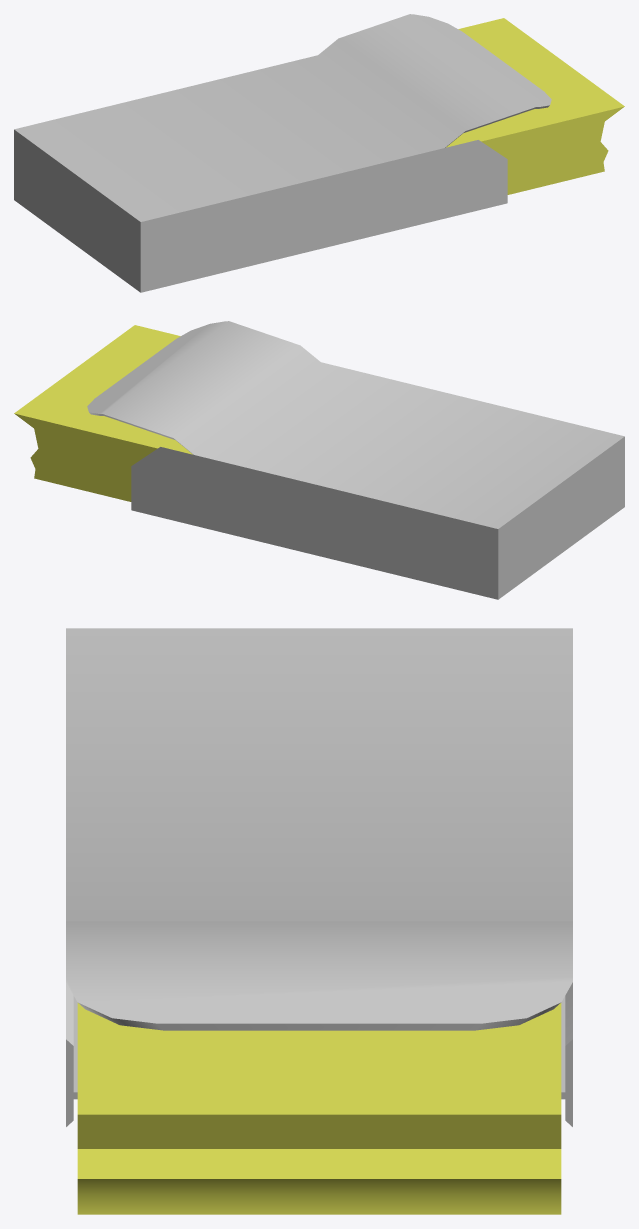
File: Mesh_PokerDeckBoxed.fbx
The picture shows the model from 3 angles, top to bottom: view 1: azimuth 30°, elevation 25°; view 2: azimuth 150°, elevation 25°; view 3: azimuth 270°, elevation 25°; orthographic projection. The views are drawn at different scales.
Parts seen in each view (by area): view 1: Deck_Boxed; view 2: Deck_Boxed; view 3: Deck_Boxed.
Boxes of the visible parts, x1,y1,x2,y2 form: Deck_Boxed: (14, 14, 624, 292); Deck_Boxed: (14, 321, 624, 599); Deck_Boxed: (66, 628, 572, 1214).
Size of the model in its own units: 14.42 by 2.53 by 6.5.
